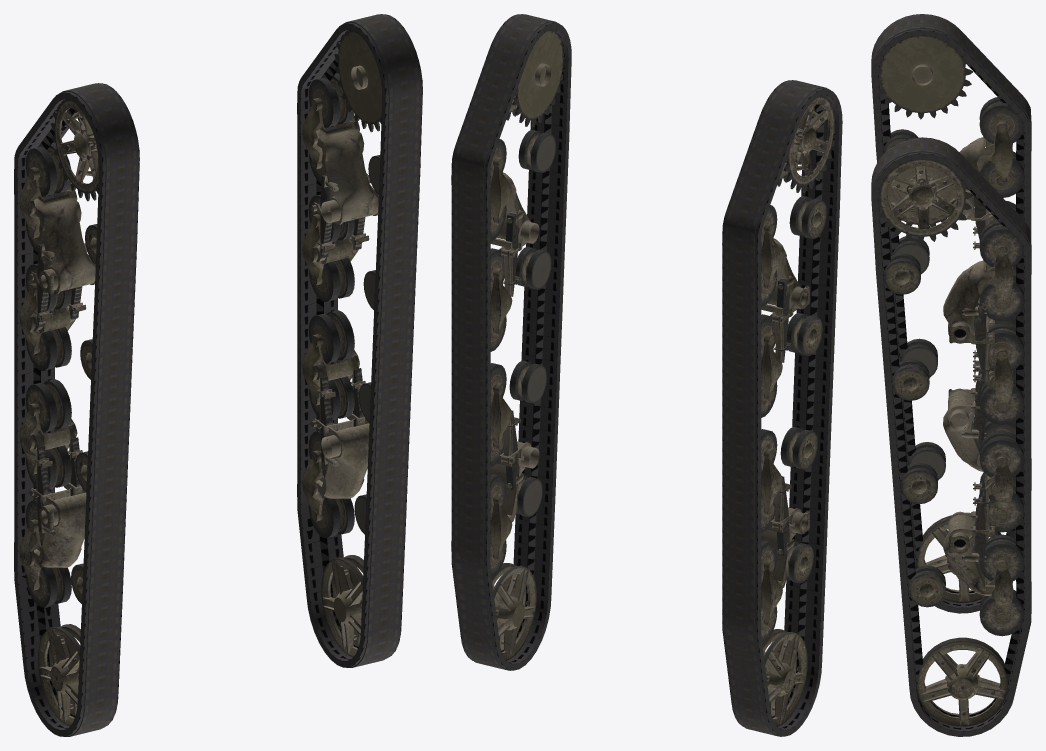
File: Chassis.glb
3 views of the same model, side by side, from view 1: azimuth 30°, elevation 25°; view 2: azimuth 150°, elevation 25°; view 3: azimuth 270°, elevation 25° (orthographic). The views are drawn at different scales.
Visible parts, largest first — view 1: set_0_group_0, set_1_group_0, set_3_group_0, set_2_group_0; view 2: set_0_group_0, set_1_group_0, set_3_group_0, set_2_group_0; view 3: set_3_group_0, set_1_group_0, set_2_group_0, set_0_group_0.
Part boxes in pixels (bbox=[...]): set_0_group_0: bbox=[14, 83, 139, 736]; set_1_group_0: bbox=[297, 14, 422, 667]; set_3_group_0: bbox=[302, 30, 382, 657]; set_2_group_0: bbox=[19, 99, 99, 726]; set_0_group_0: bbox=[722, 80, 842, 736]; set_1_group_0: bbox=[451, 14, 571, 670]; set_3_group_0: bbox=[490, 29, 563, 660]; set_2_group_0: bbox=[761, 95, 834, 726]; set_3_group_0: bbox=[878, 159, 1024, 726]; set_1_group_0: bbox=[871, 137, 1031, 736]; set_2_group_0: bbox=[878, 36, 1023, 602]; set_0_group_0: bbox=[871, 14, 1031, 613].
Bounding box in the file's own units: 2.43 × 4.49 × 1.12.
4 materials, 4 textured.
